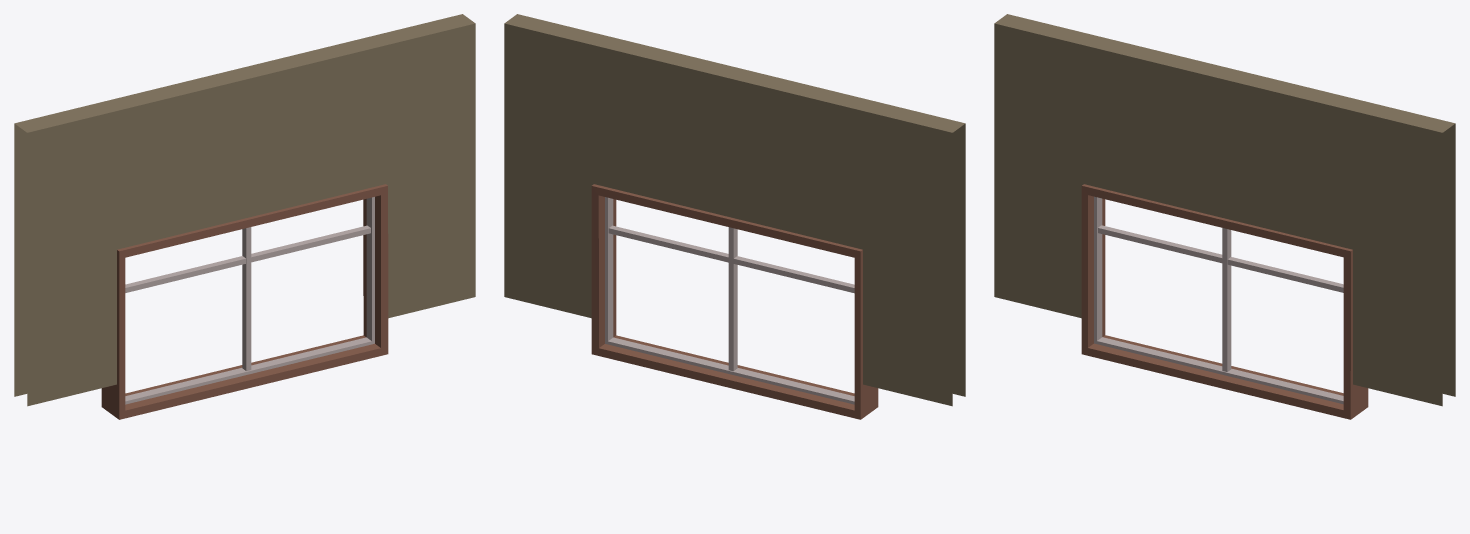
Rendered from SM_Wall_Window_B_400.fbx.
The picture shows the model from 3 angles, left to right: view 1: azimuth 30°, elevation 25°; view 2: azimuth 150°, elevation 25°; view 3: azimuth 330°, elevation 25°; orthographic projection.
Parts seen in each view (by area): view 1: SM_Wall_Window_B_400; view 2: SM_Wall_Window_B_400; view 3: SM_Wall_Window_B_400.
Boxes of the visible parts, bbox=[...] form: SM_Wall_Window_B_400: bbox=[14, 14, 475, 419]; SM_Wall_Window_B_400: bbox=[504, 14, 965, 419]; SM_Wall_Window_B_400: bbox=[994, 14, 1455, 419].
Size of the model in its own units: 400 by 330 by 27.27.
Materials: 4 (4 with a texture image).
